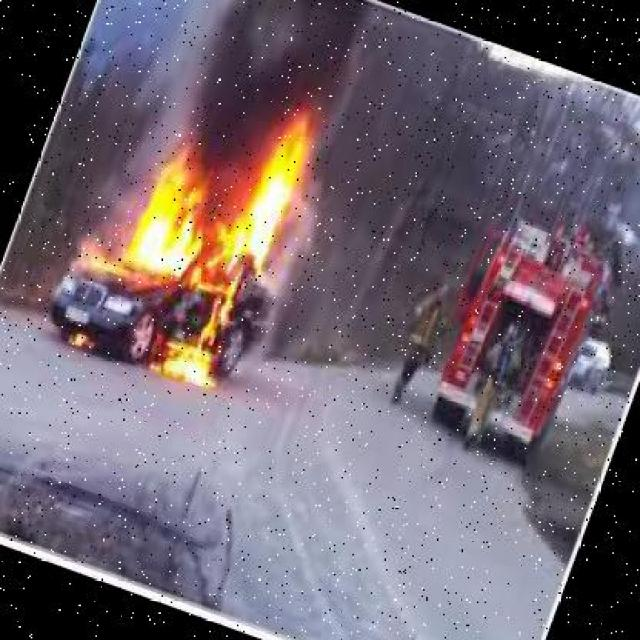fire: (94, 65, 340, 403)
